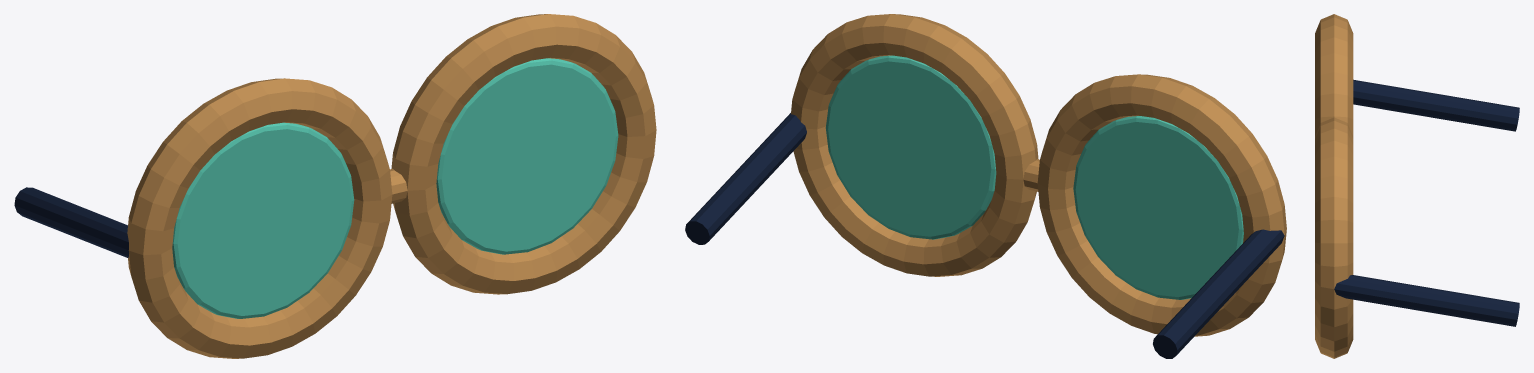
The model's file is Item_xray.fbx.
3 views of the same model, side by side, from view 1: azimuth 30°, elevation 25°; view 2: azimuth 150°, elevation 25°; view 3: azimuth 270°, elevation 25° (orthographic). The views are drawn at different scales.
Visible parts, largest first — view 1: Item_xray.Mesh; view 2: Item_xray.Mesh; view 3: Item_xray.Mesh.
Part boxes in pixels (<box>): Item_xray.Mesh: <box>14,14,656,358</box>; Item_xray.Mesh: <box>685,14,1286,358</box>; Item_xray.Mesh: <box>1315,14,1519,358</box>.
Size of the model in its own units: 71.6 by 35.6 by 30.13.
